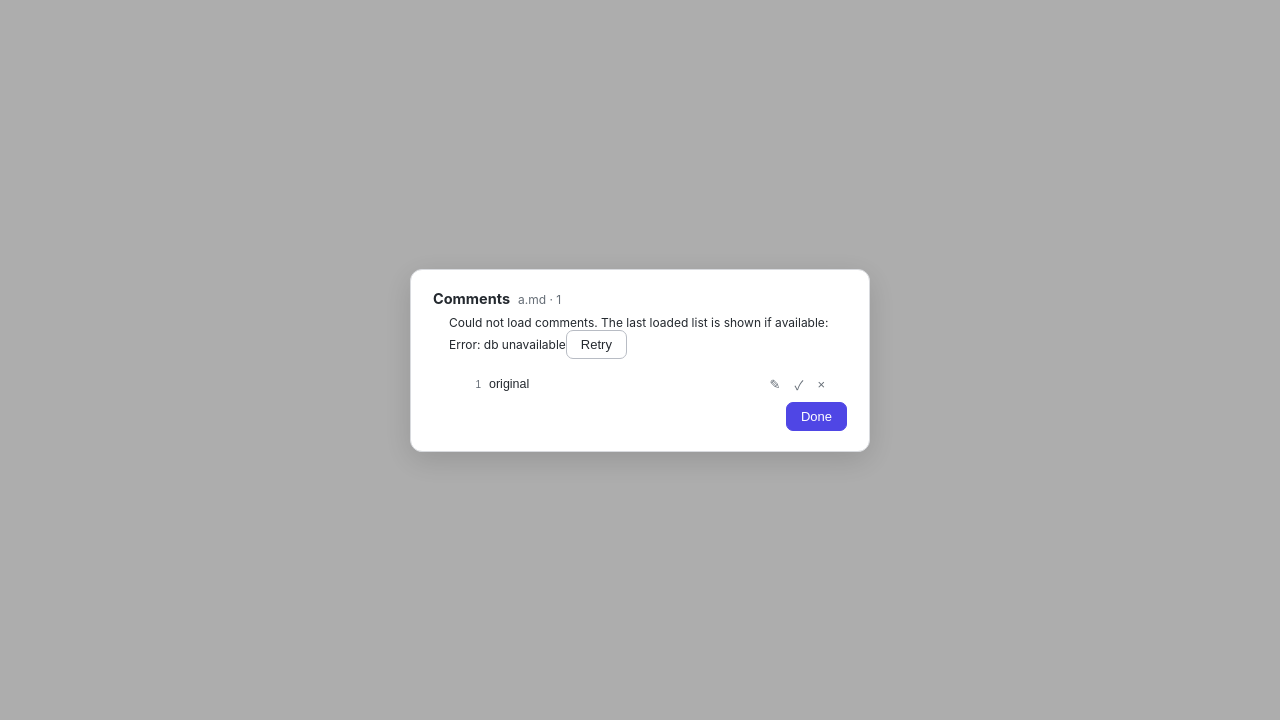
Scenario: 메모 패널의 대상과 확인 › 조회 실패는 빈 메모 표시로 바뀌지 않고 재조회할 수 있다
Expected: the text "No comments. Right-click in the editor to add one." is not shown
Click the button "Retry" at (596, 344), box [566,330,627,358]
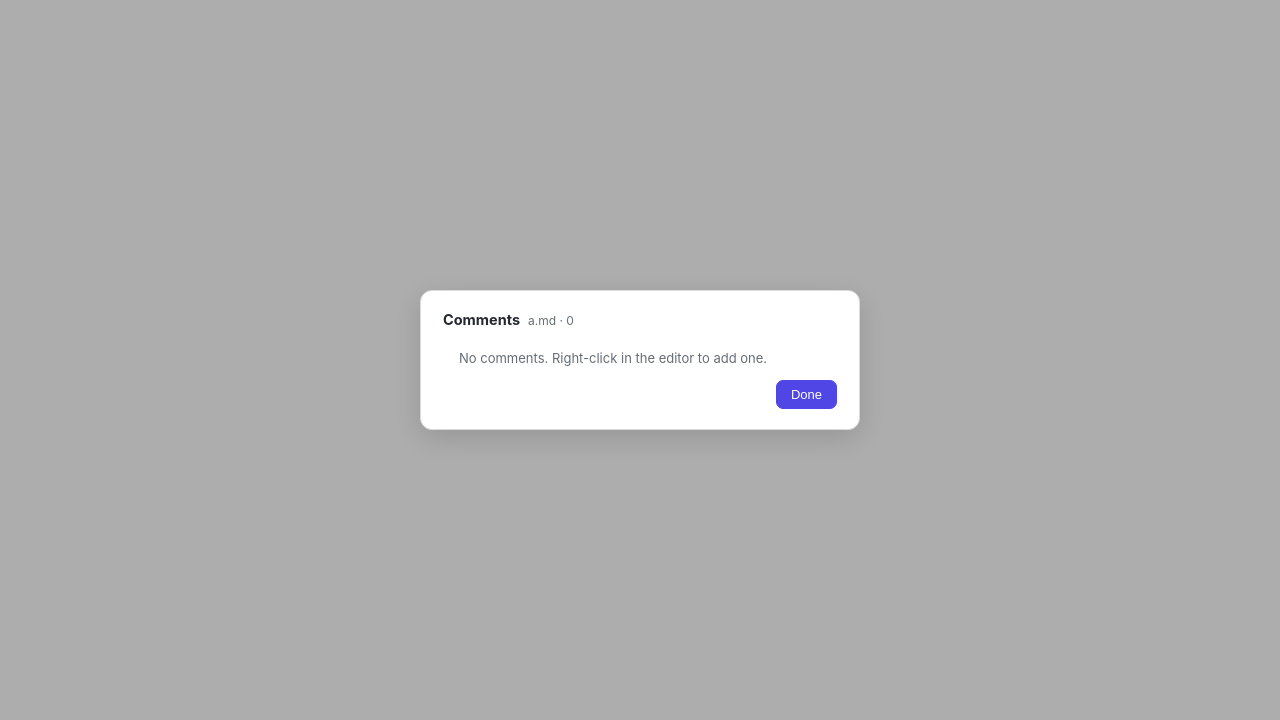
Expected: the text "No comments. Right-click in the editor to add one." is shown, [459,350,767,366]
